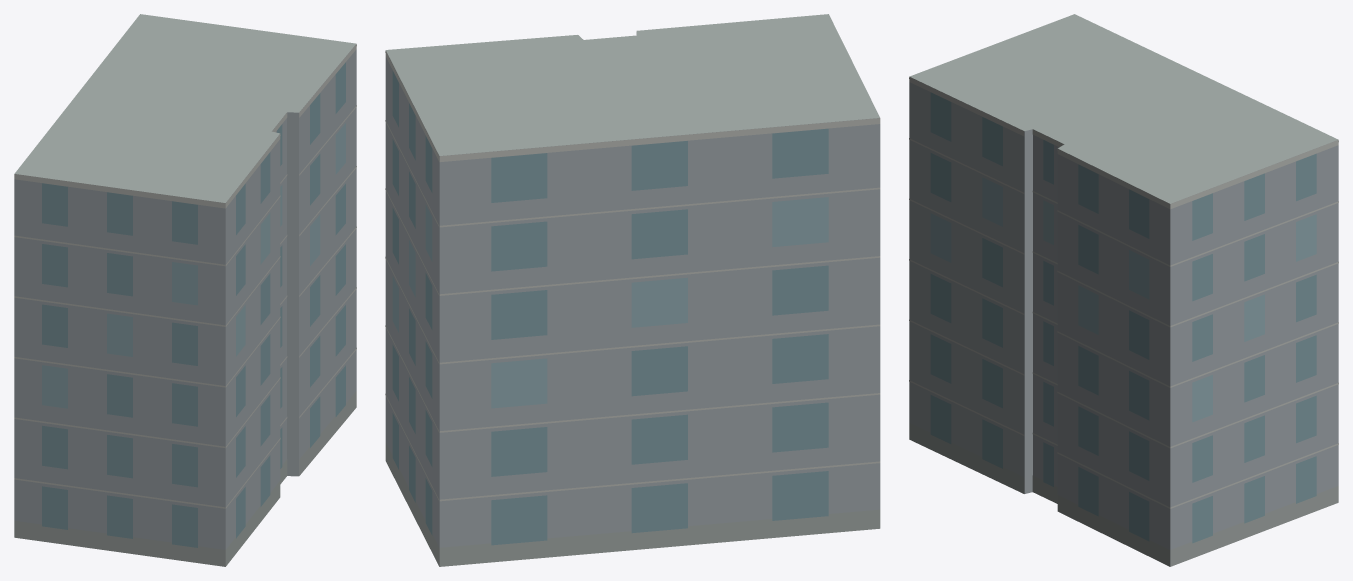
Rendered from survey-upis-32885079.glb.
3 views of the same model, side by side, from view 1: azimuth 30°, elevation 25°; view 2: azimuth 150°, elevation 25°; view 3: azimuth 270°, elevation 25° (orthographic). The views are drawn at different scales.
Parts seen in each view (by area): view 1: survey-upis-32885079.tmp; view 2: survey-upis-32885079.tmp; view 3: survey-upis-32885079.tmp.
Boxes of the visible parts, x1,y1,x2,y2 form: survey-upis-32885079.tmp: (14, 14, 356, 566); survey-upis-32885079.tmp: (385, 14, 880, 566); survey-upis-32885079.tmp: (909, 14, 1338, 566).
Bounding box in the file's own units: 18.31 × 16.3 × 17.49.
